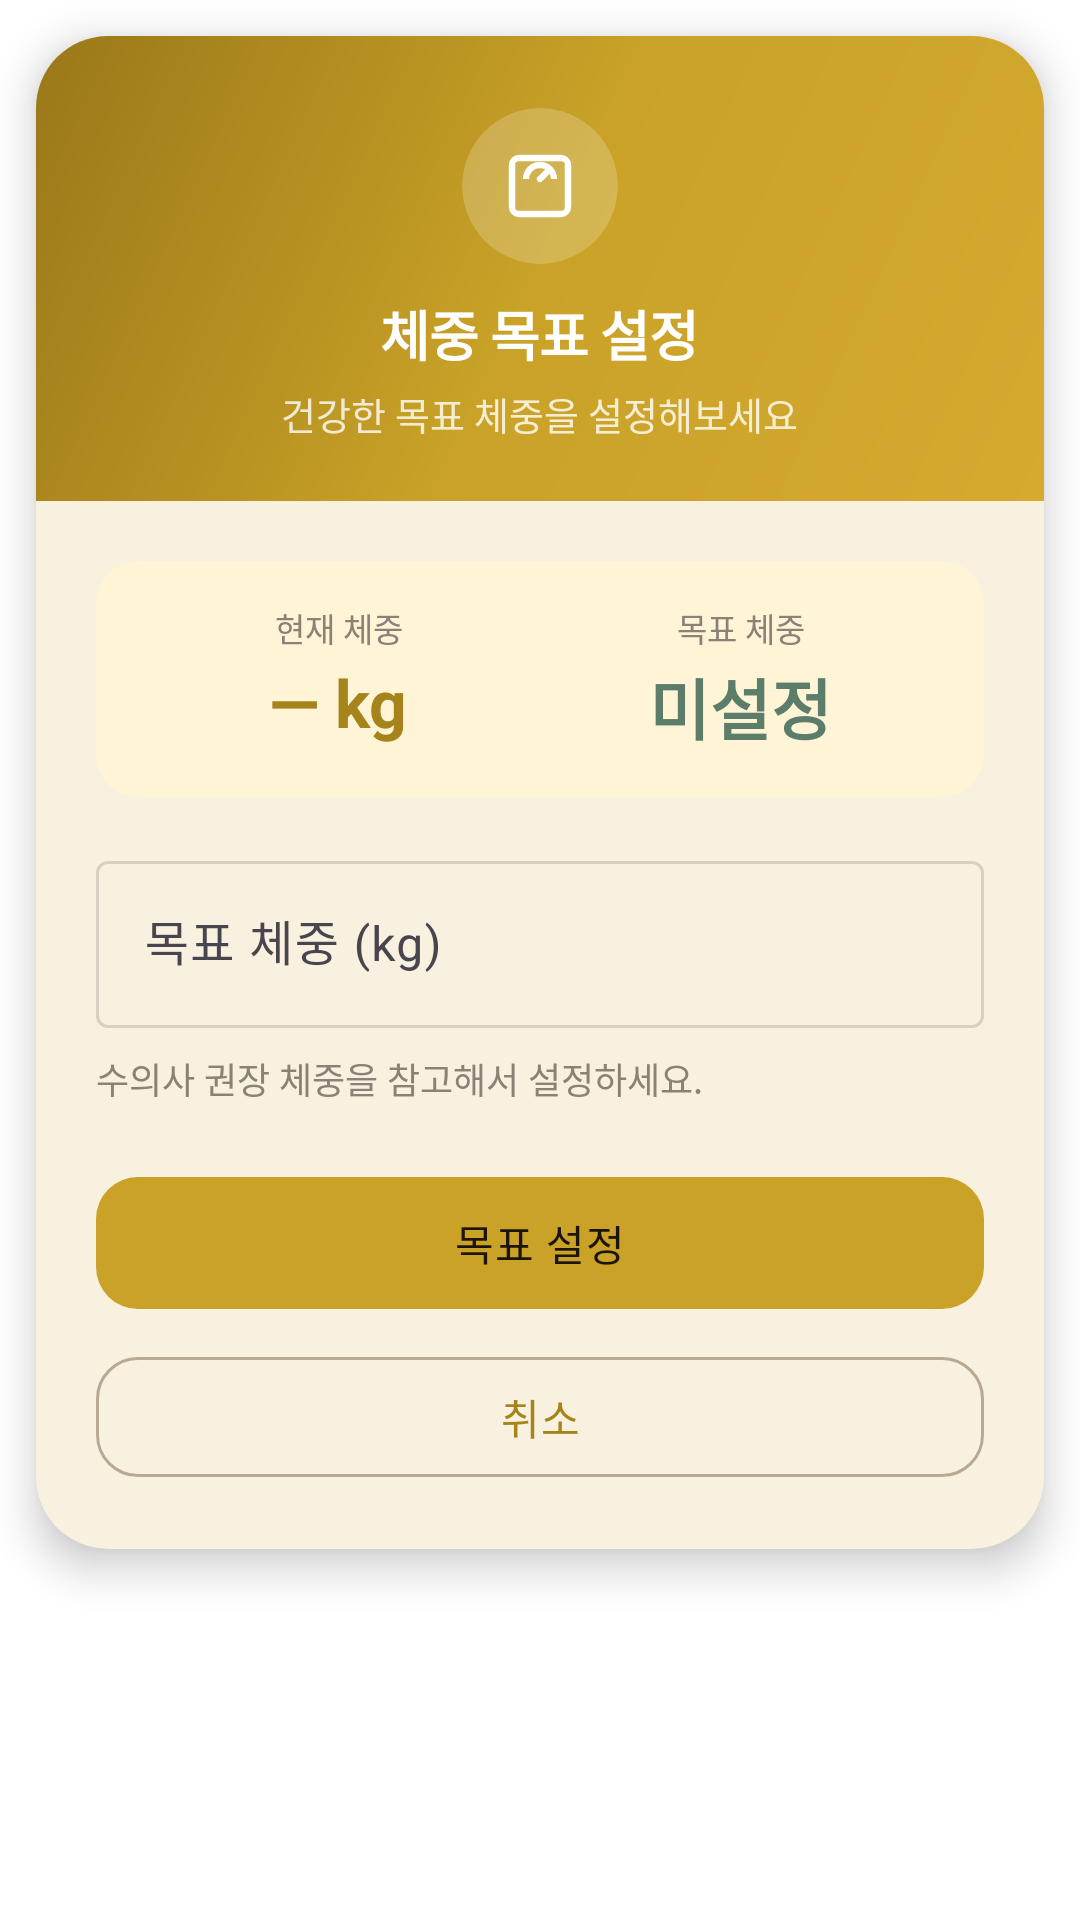

Icons on this 1080 x 1920 Android screen, each with the point to tap as (x,y):
weight scale: (540,186)
